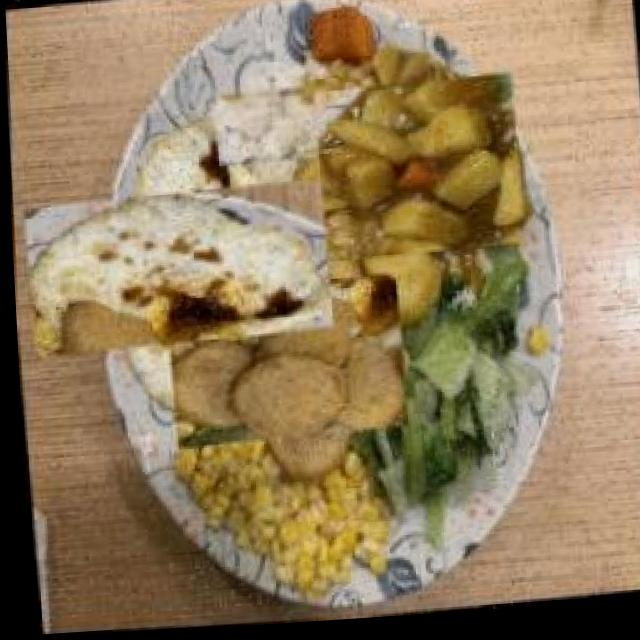chicken_nuggets: (176, 259, 390, 474)
curry: (316, 70, 522, 279)
fried_eggs: (52, 145, 301, 398)
rice: (222, 78, 329, 184)
